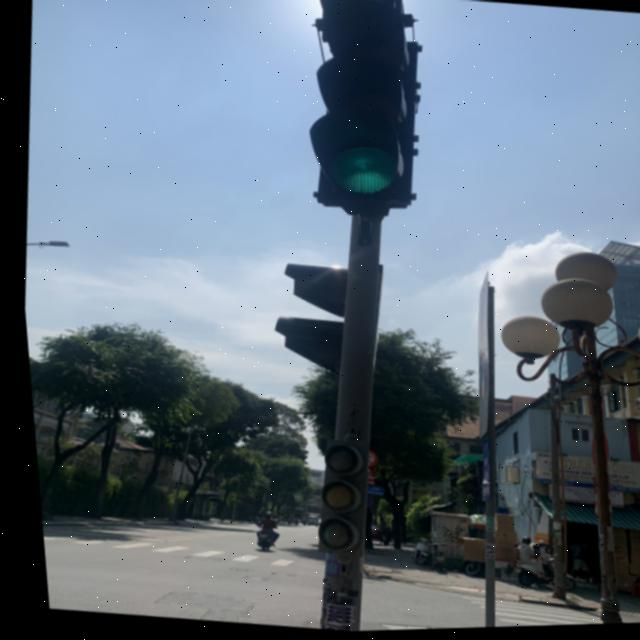Green: (265, 0, 448, 223)
